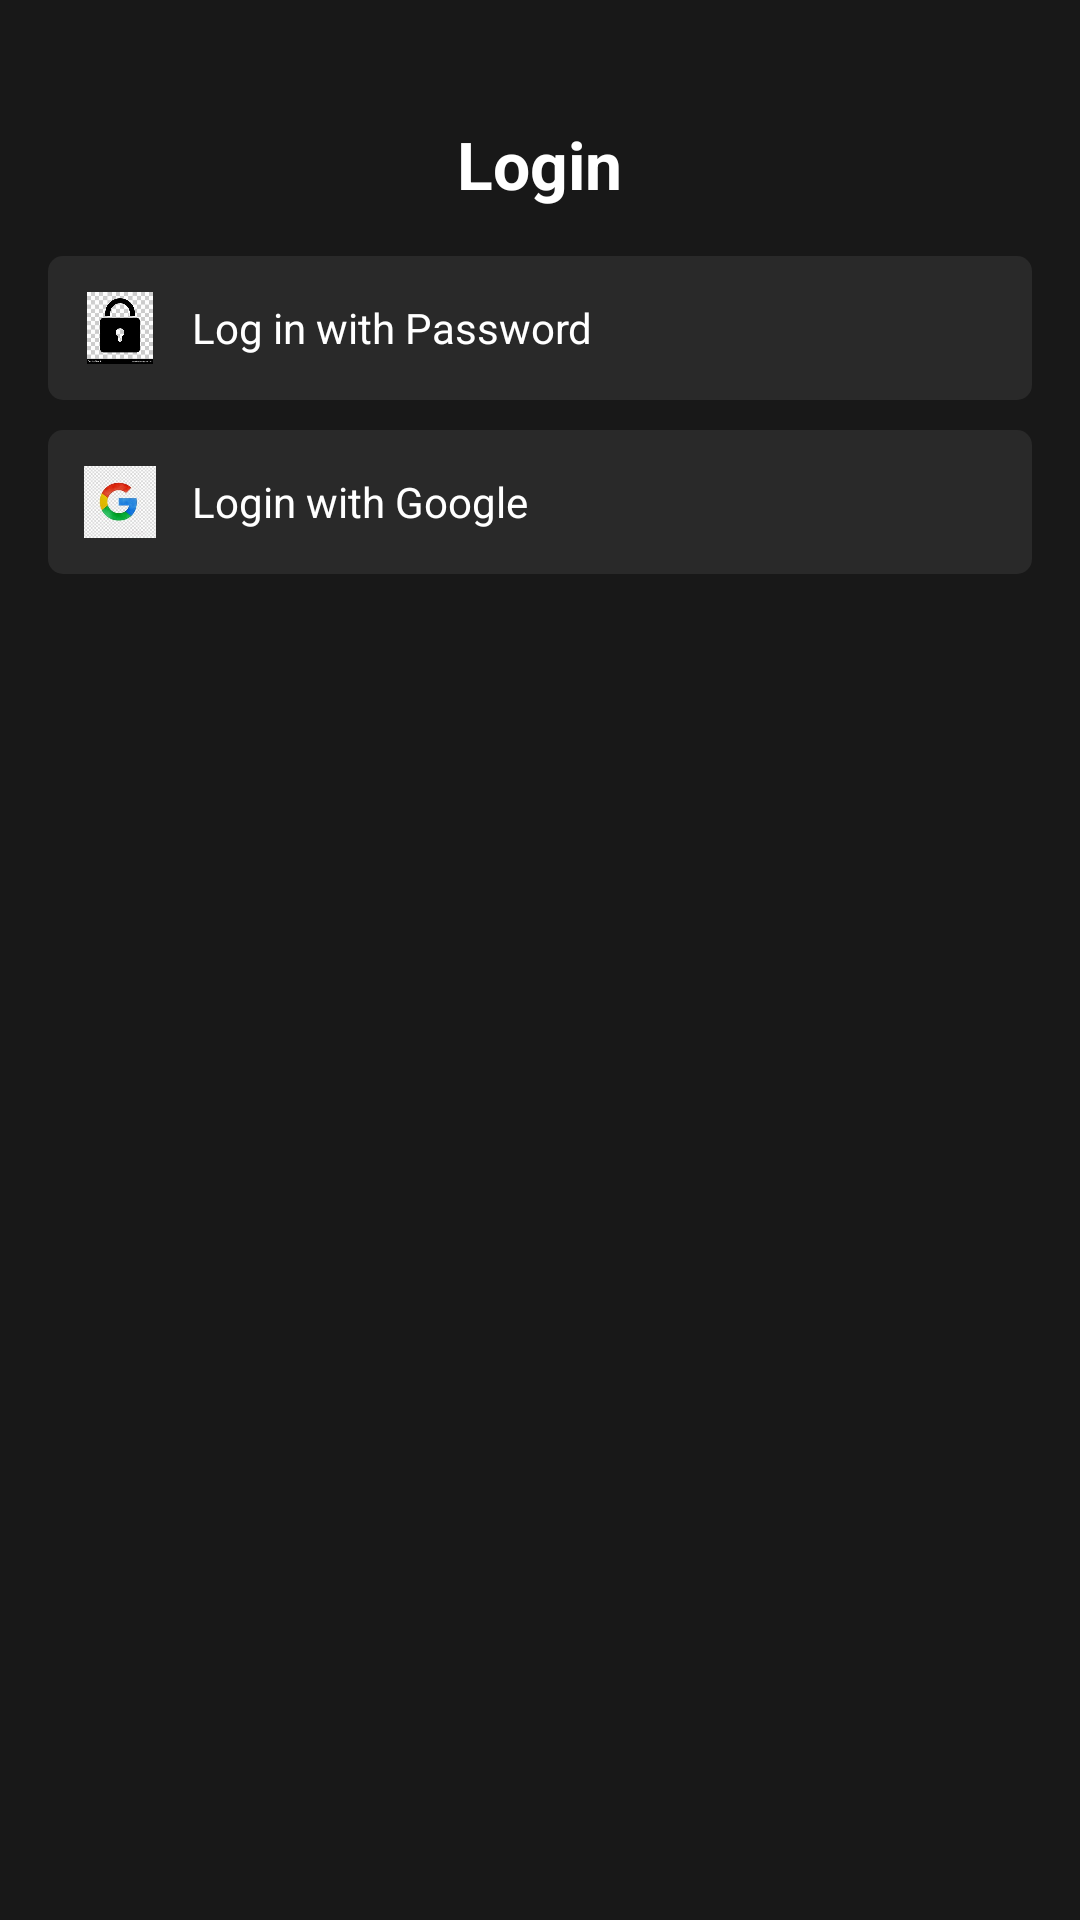

Icons on this 1080px x 1920px Android screen, each with its box as {"left": x1, "top": y1, "right": x2, "bottom": y2}:
lock: {"left": 87, "top": 292, "right": 153, "bottom": 364}
